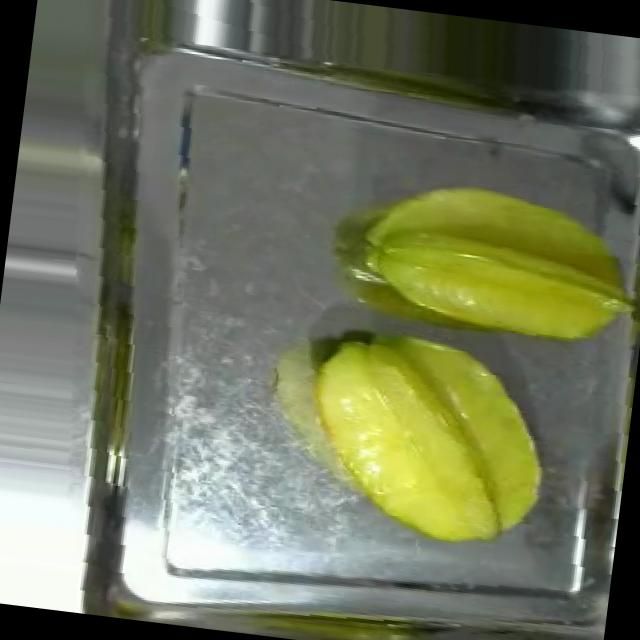fruit: (284, 314, 567, 562), (334, 157, 640, 362)
